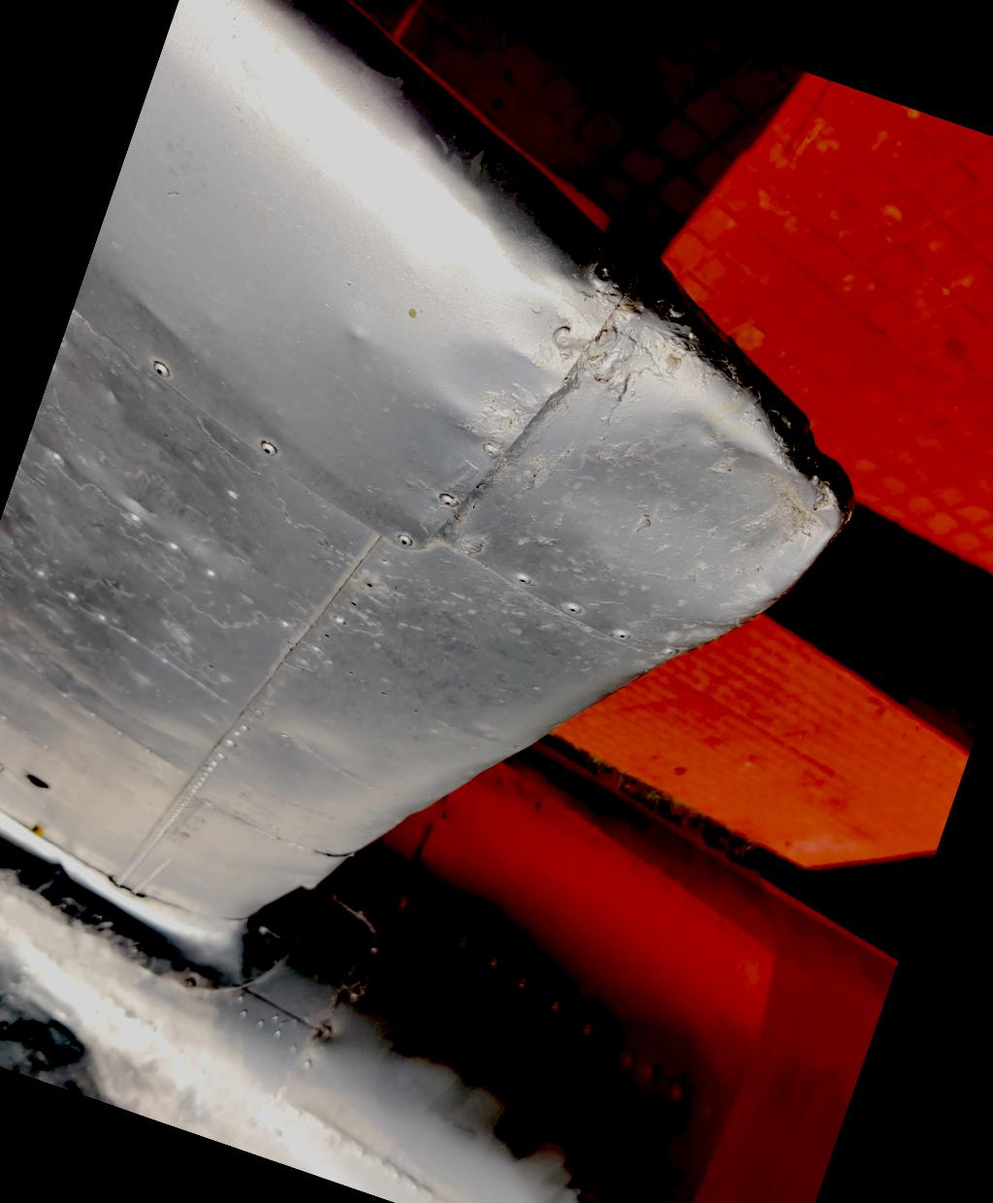dent: (506, 317, 918, 697)
